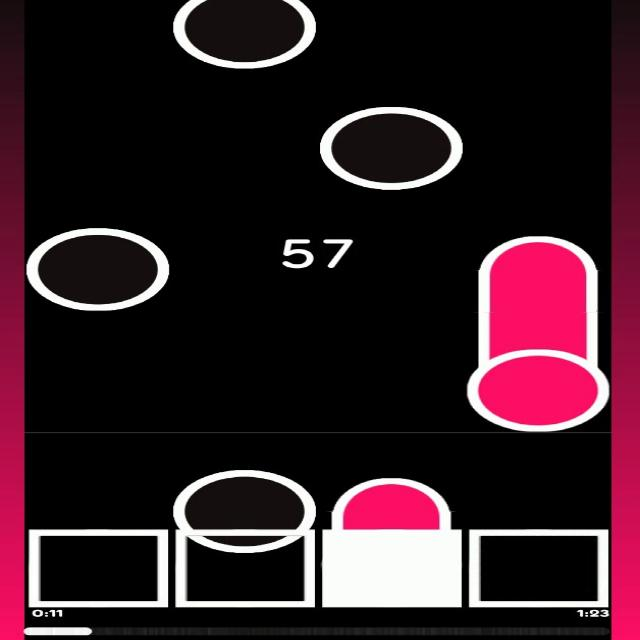end_hold: (331, 465, 454, 523), (479, 224, 599, 277)
note: (23, 224, 173, 312), (171, 465, 316, 554), (318, 105, 466, 191), (170, 0, 318, 70)
start_hold: (469, 335, 609, 434)
